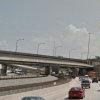Bridge: (4, 39, 87, 77)
